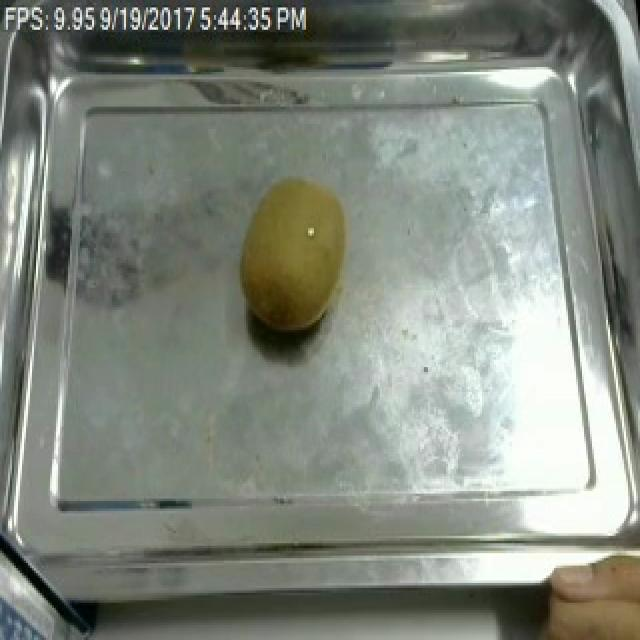Fruit: (232, 166, 360, 342)
